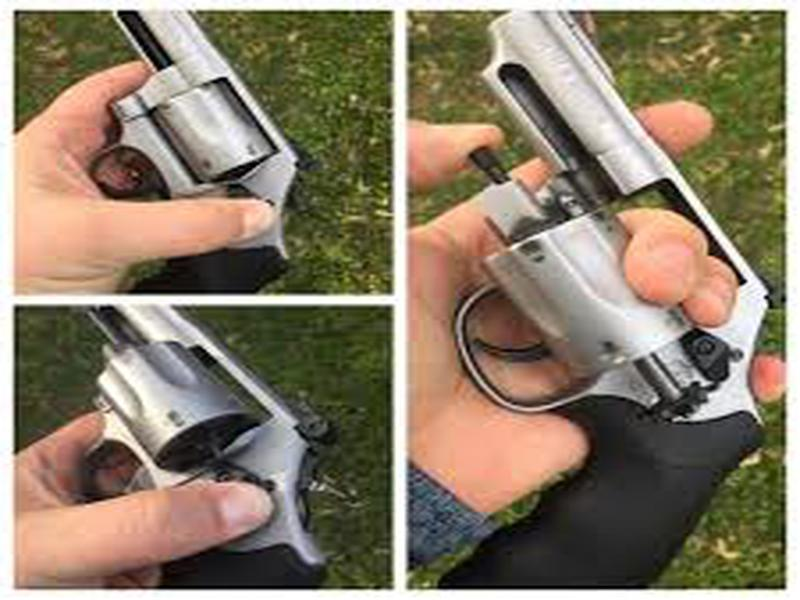gun: (410, 11, 788, 588), (16, 306, 352, 586), (16, 13, 305, 299)
